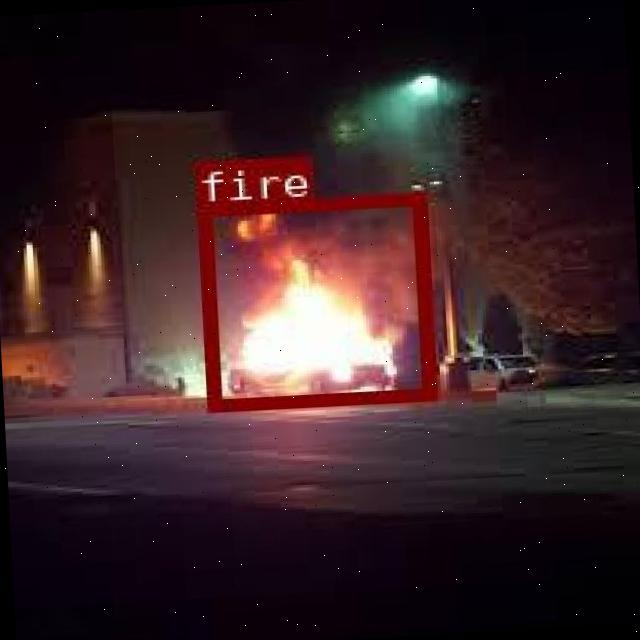fire: (196, 191, 434, 410)
